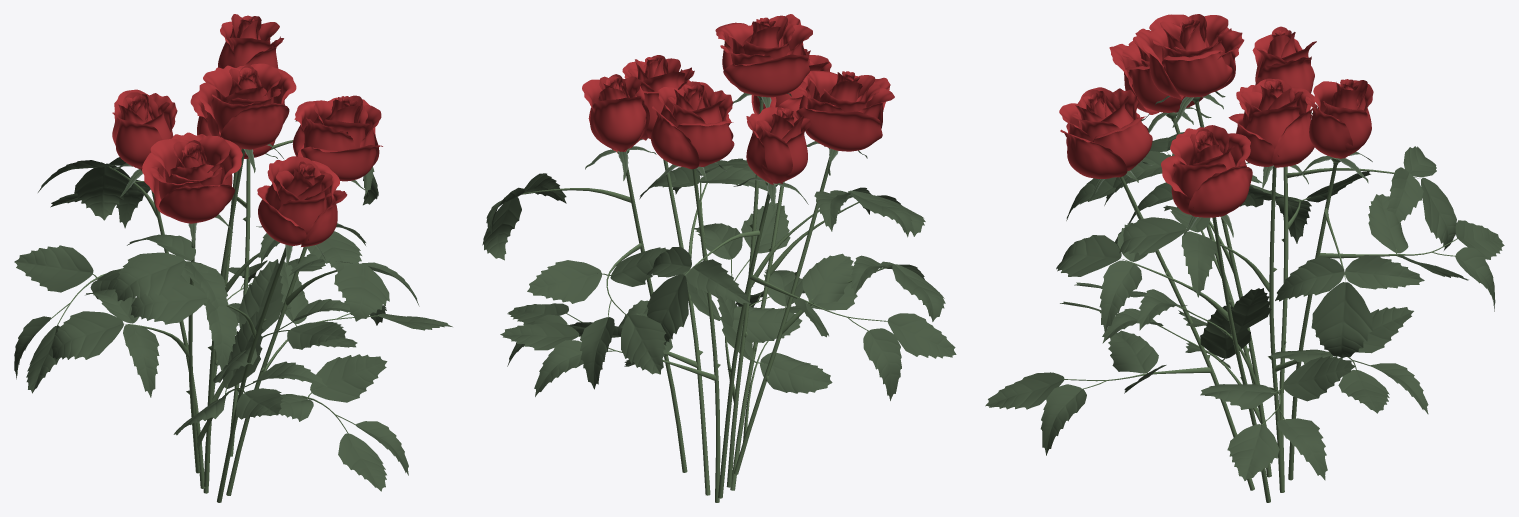
3 views of the same model, side by side, from view 1: azimuth 30°, elevation 25°; view 2: azimuth 150°, elevation 25°; view 3: azimuth 270°, elevation 25° (orthographic). The views are drawn at different scales.
Visible parts, largest first — view 1: Rose269, Rose233, Rose234, Rose005, Rose211, Rose142, Rose126, Rose252, Rose189, Rose158, Rose107, Rose222 (+48 smaller); view 2: Rose213, Rose140, Rose069, Rose081, Rose087, Rose266, Rose203, Rose189, Rose231, Rose230, Rose041, Rose045 (+37 smaller); view 3: Rose089, Rose144, Rose109, Rose128, Rose130, Rose090, Rose160, Rose091, Rose126, Rose062, Rose127, Rose206 (+40 smaller).
Boxes of the visible parts, left/top/right/bottom form: Rose269: left=52, top=311, right=123, bottom=359; Rose233: left=14, top=245, right=93, bottom=292; Rose234: left=115, top=252, right=185, bottom=301; Rose005: left=310, top=354, right=387, bottom=402; Rose211: left=159, top=184, right=234, bottom=223; Rose142: left=220, top=103, right=289, bottom=149; Rose126: left=334, top=263, right=389, bottom=321; Rose252: left=130, top=280, right=207, bottom=324; Rose189: left=74, top=163, right=133, bottom=220; Rose158: left=239, top=259, right=283, bottom=333; Rose107: left=300, top=145, right=382, bottom=181; Rose222: left=123, top=324, right=159, bottom=397; Rose213: left=796, top=107, right=882, bottom=151; Rose140: left=723, top=54, right=809, bottom=97; Rose069: left=592, top=96, right=646, bottom=151; Rose081: left=527, top=260, right=602, bottom=303; Rose087: left=621, top=314, right=666, bottom=374; Rose266: left=887, top=313, right=956, bottom=358; Rose203: left=760, top=352, right=832, bottom=393; Rose189: left=647, top=274, right=688, bottom=345; Rose231: left=802, top=253, right=853, bottom=303; Rose230: left=863, top=328, right=901, bottom=400; Rose041: left=677, top=121, right=734, bottom=166; Rose045: left=651, top=106, right=699, bottom=169; Rose089: left=1311, top=282, right=1372, bottom=357; Rose144: left=1162, top=50, right=1232, bottom=97; Rose109: left=1188, top=165, right=1252, bottom=217; Rose128: left=1283, top=355, right=1355, bottom=401; Rose130: left=1227, top=424, right=1279, bottom=480; Rose090: left=1344, top=255, right=1424, bottom=289; Rose160: left=1060, top=129, right=1127, bottom=178; Rose091: left=1275, top=257, right=1344, bottom=301; Rose126: left=1056, top=235, right=1121, bottom=276; Rose062: left=1115, top=217, right=1186, bottom=255; Rose127: left=1099, top=260, right=1141, bottom=332; Rose206: left=985, top=372, right=1064, bottom=409.
Bounding box in the file's own units: 4.48 × 4.48 × 4.47.
